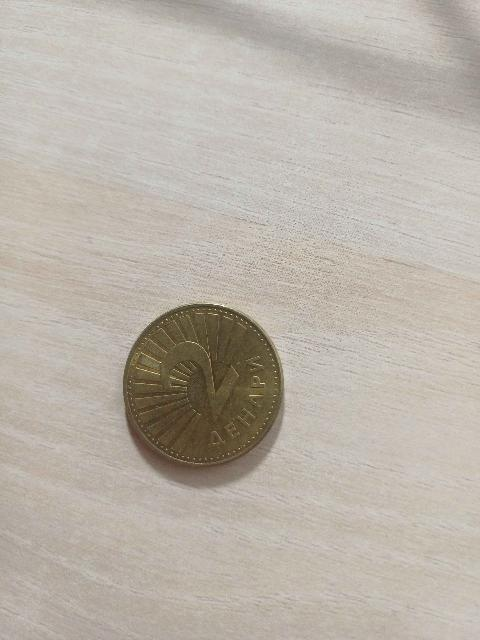coin: (124, 304, 283, 465)
